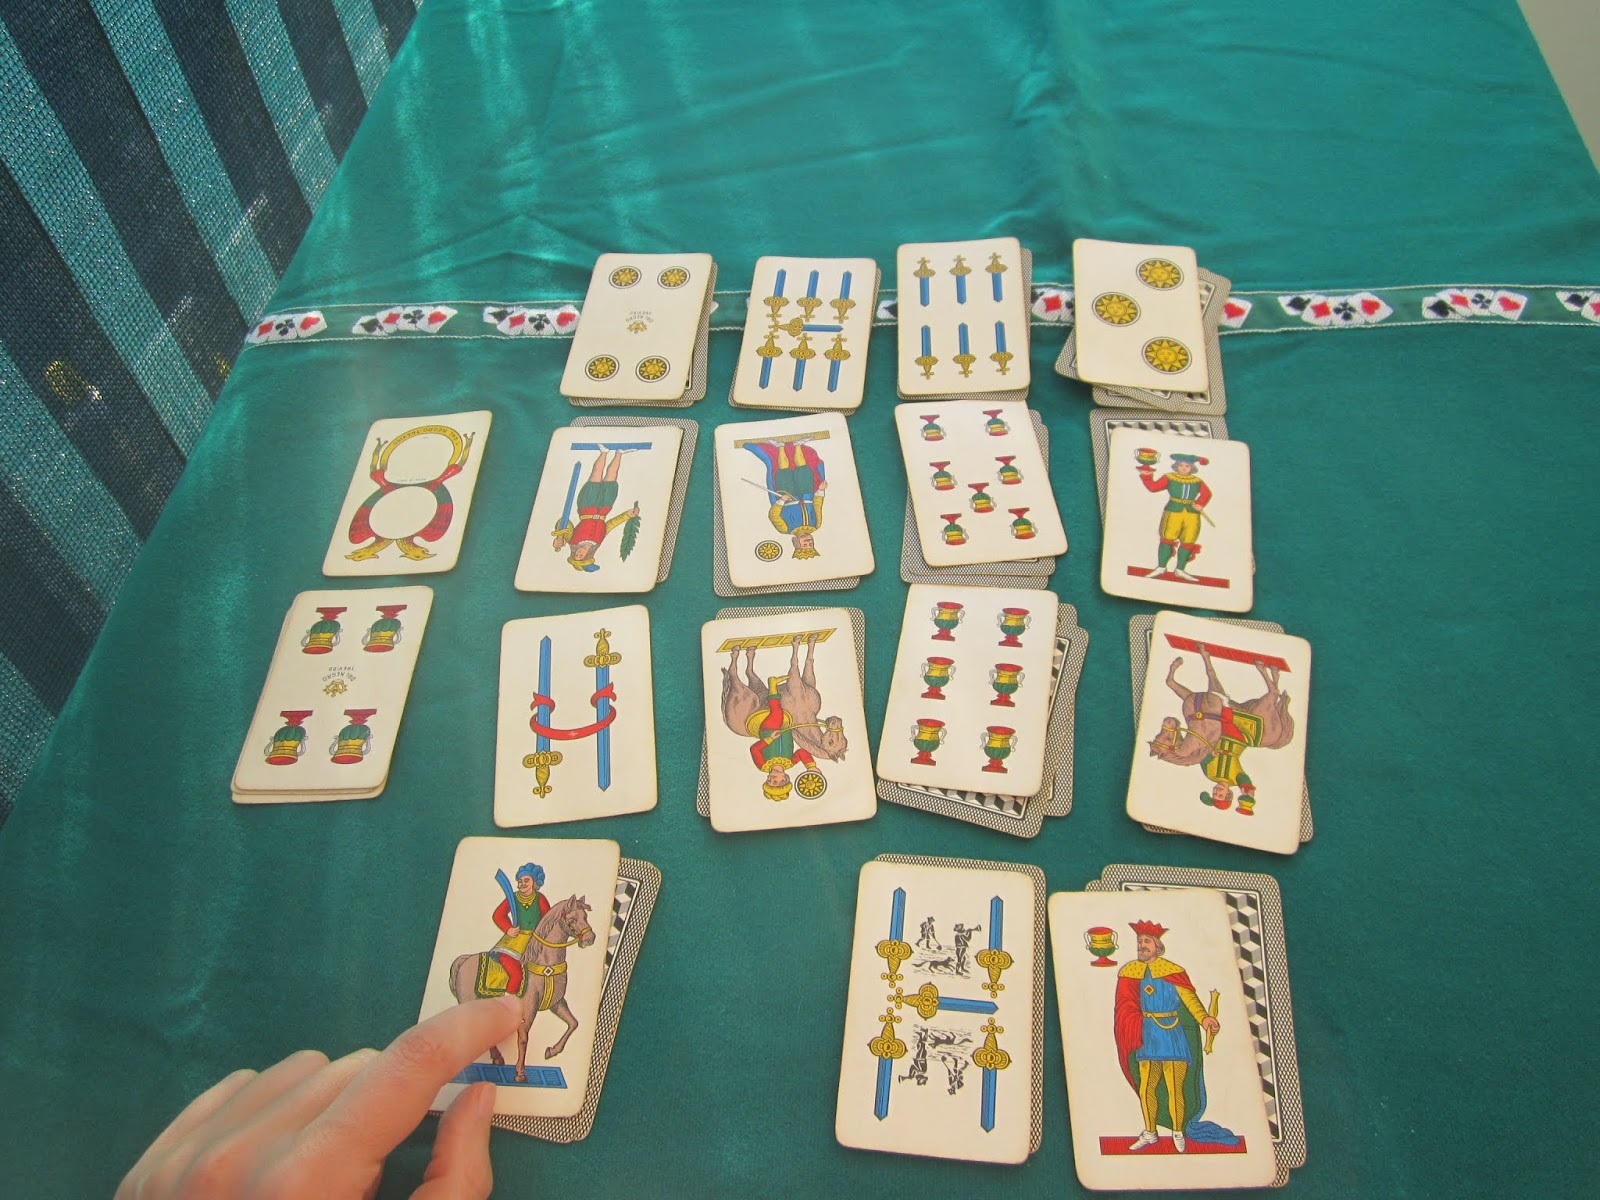coppe: (1038, 882, 1313, 1192), (1114, 603, 1347, 867), (219, 579, 433, 813), (1090, 424, 1280, 616)
denari: (690, 613, 879, 841), (317, 386, 500, 579), (711, 415, 889, 594), (1066, 226, 1233, 398), (561, 229, 706, 405)
